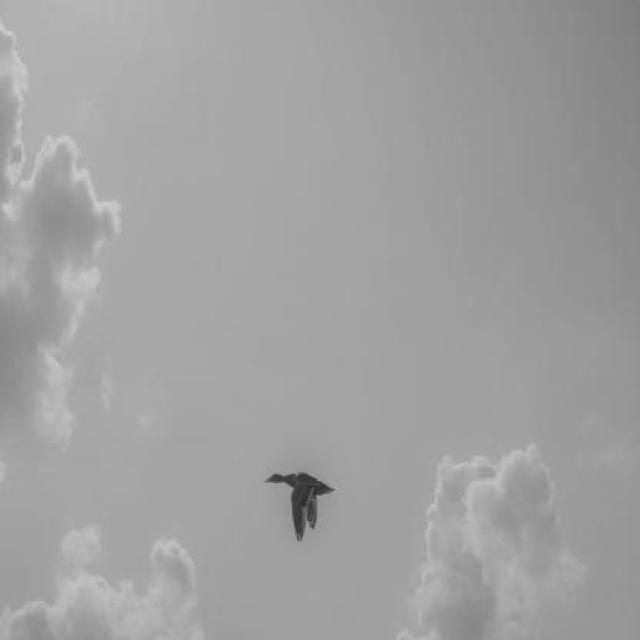bird: (264, 471, 336, 542)
